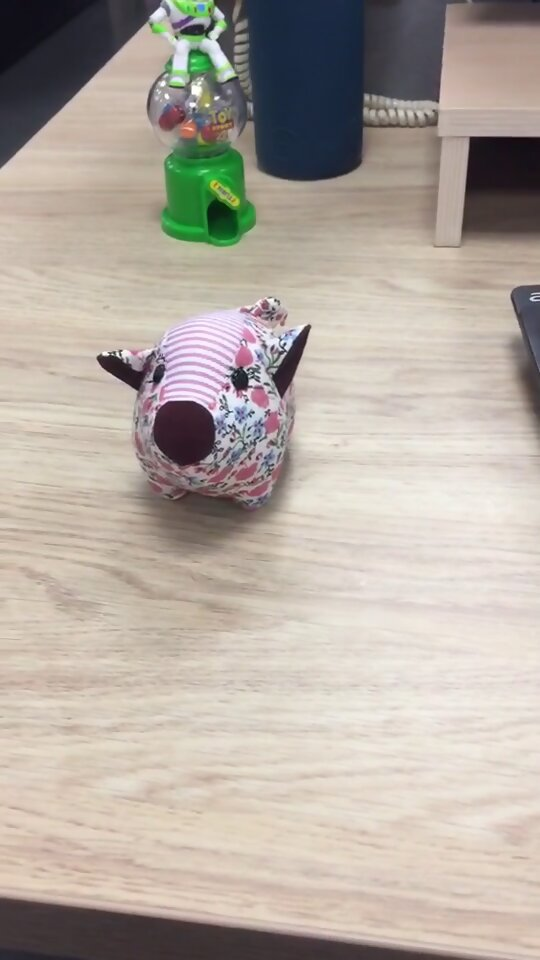pig: (91, 293, 318, 513)
